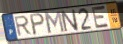2: (78, 7, 94, 31)
E: (91, 5, 111, 30)
M: (43, 10, 66, 35)
N: (59, 9, 81, 34)
P: (29, 13, 46, 37)
R: (14, 14, 34, 38)
